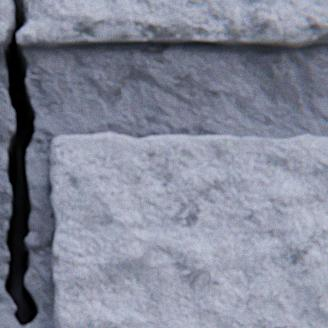brick: (50, 133, 327, 327)
broken_brick: (17, 0, 327, 48), (0, 0, 13, 45)
crack: (0, 0, 39, 327)
